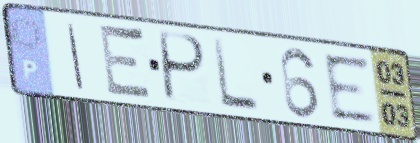6: (277, 44, 322, 121)
E: (97, 20, 156, 106), (320, 52, 380, 125)
I: (65, 21, 87, 93)
L: (210, 35, 262, 114)
P: (159, 28, 210, 106)
